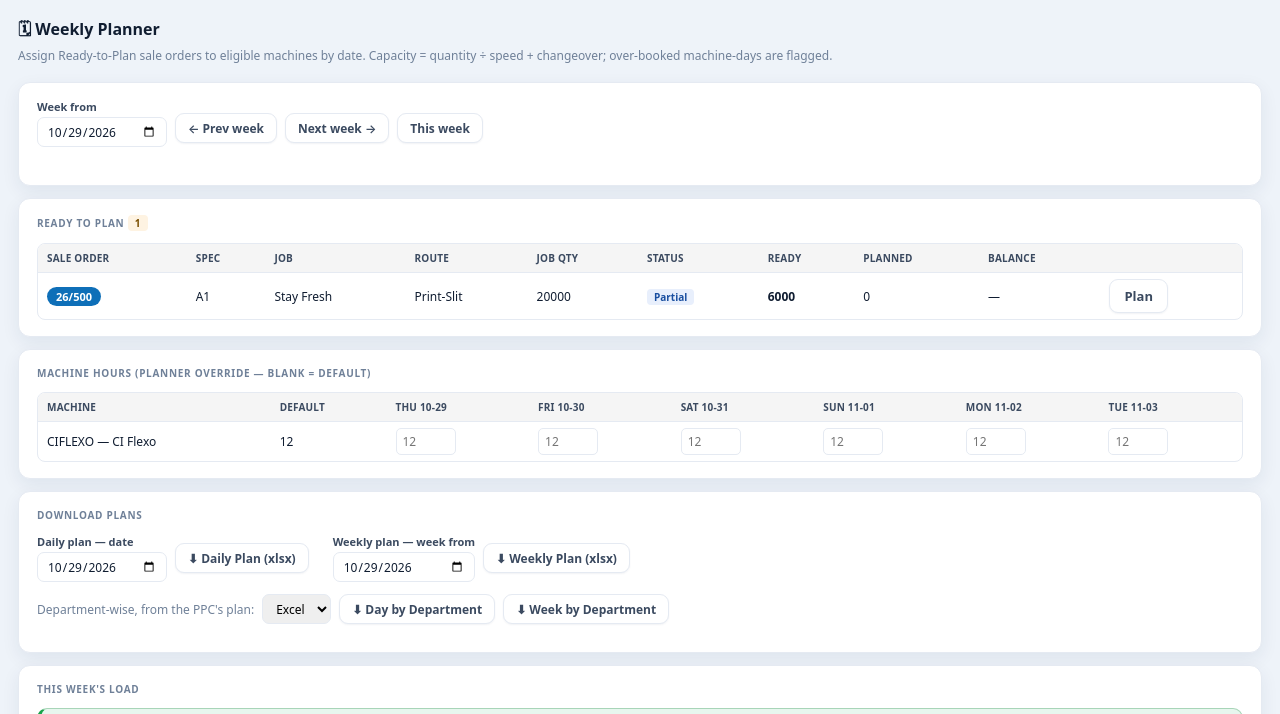
Test: WeeklyPlanner page › loads the ready pool with Plant readiness, opens an SO to plan, and shows machine hours
Expected: the text "26/500" is shown, [47,286,101,306]
Expected: the text "Partial" is shown, [647,288,694,304]
Note: open the SO for planning
Click the button "Plan". click: coordinates (1139, 296)
box: [1109,279,1168,313]
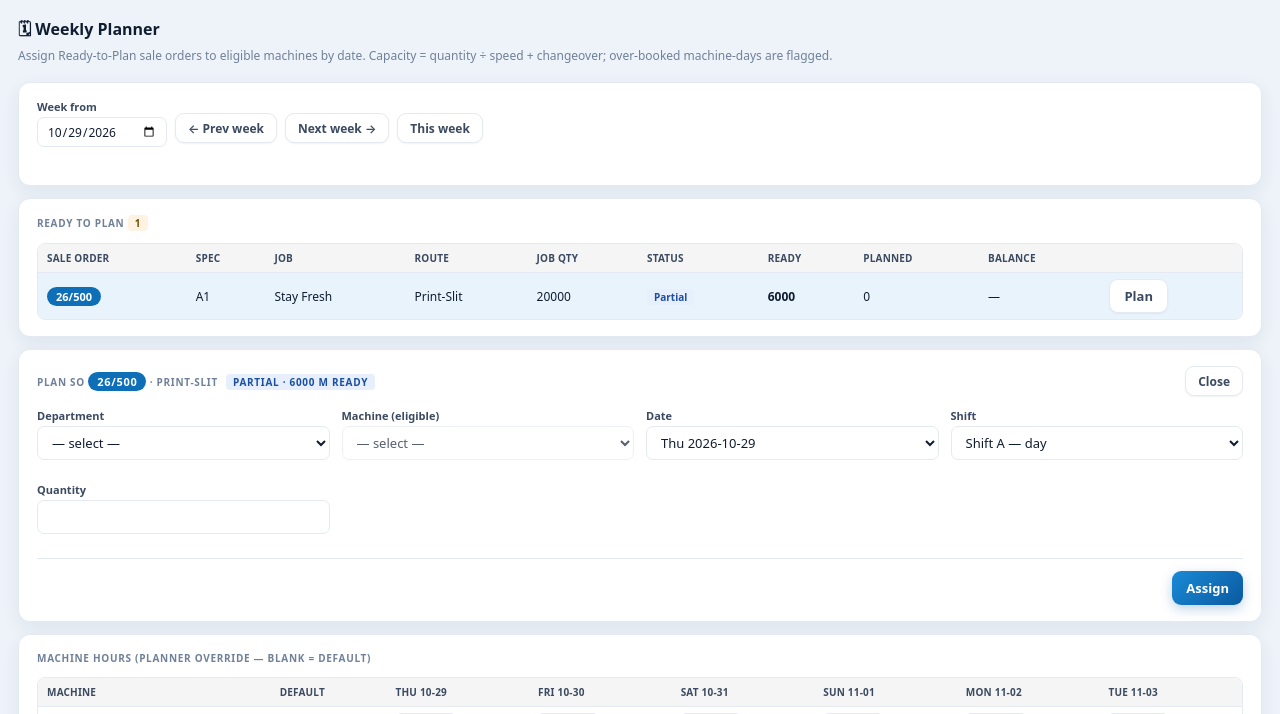
Result: the text "Plan SO 26/500 · Print-Slit Partial · 6000 m ready" is shown at [37,372,375,390]
